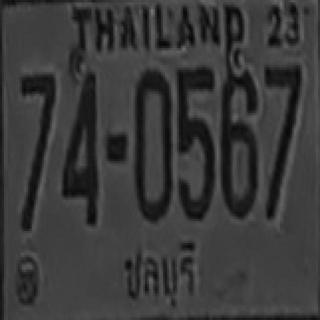N00: (120, 61, 178, 224)
N04: (60, 68, 97, 222)
N05: (176, 62, 214, 219)
N06: (219, 67, 256, 217)
N07: (262, 63, 300, 227), (20, 72, 54, 237)
P13: (120, 237, 200, 309)
